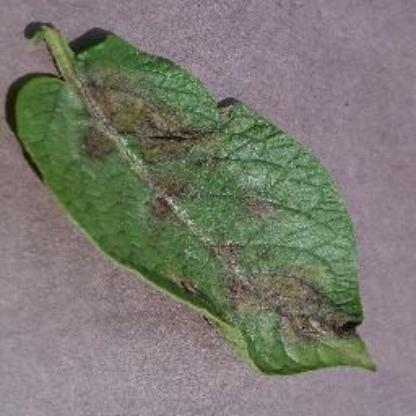Late-Blight: (8, 10, 394, 390)
